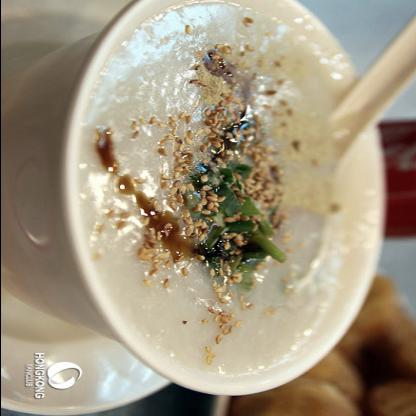Joke: (0, 0, 368, 385)
